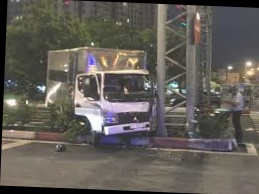Bien-so: (122, 118, 139, 126)
